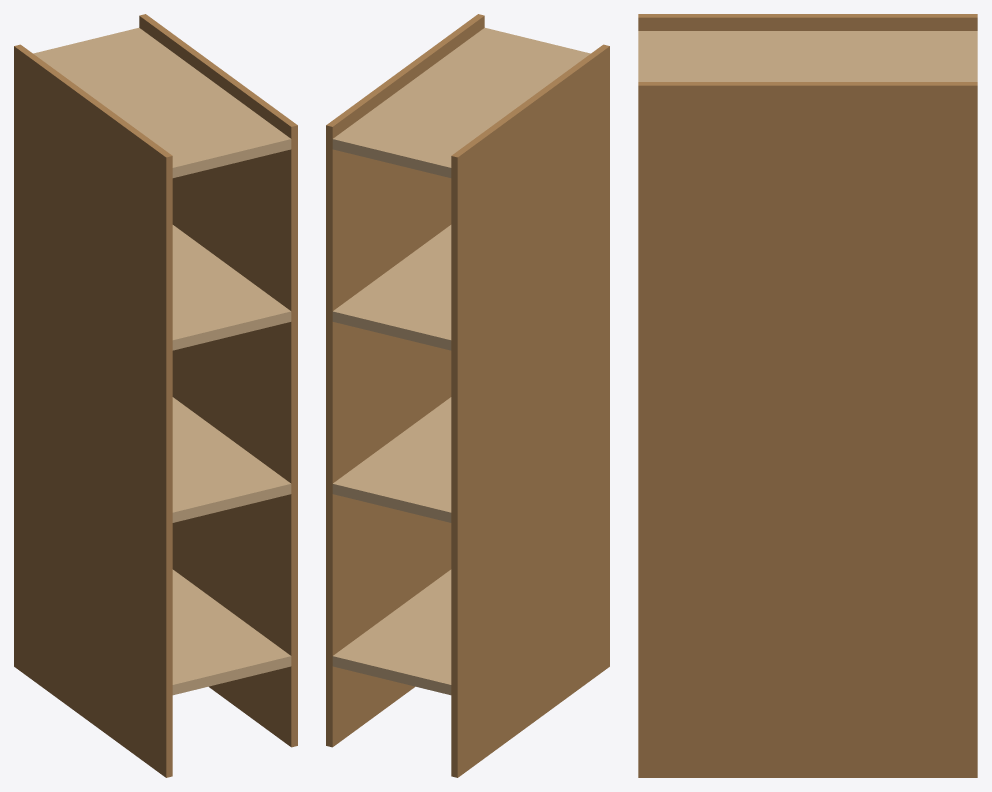
3 views of the same model, side by side, from view 1: azimuth 30°, elevation 25°; view 2: azimuth 150°, elevation 25°; view 3: azimuth 270°, elevation 25° (orthographic). The views are drawn at different scales.
Visible parts, largest first — view 1: estante_of3; view 2: estante_of3; view 3: estante_of3.
Boxes of the visible parts, box(x1,y1,x2,y2) form: estante_of3: box(14, 14, 297, 777); estante_of3: box(326, 14, 609, 777); estante_of3: box(638, 14, 977, 777).
Size of the model in its own units: 0.4 by 0.8 by 1.8.
